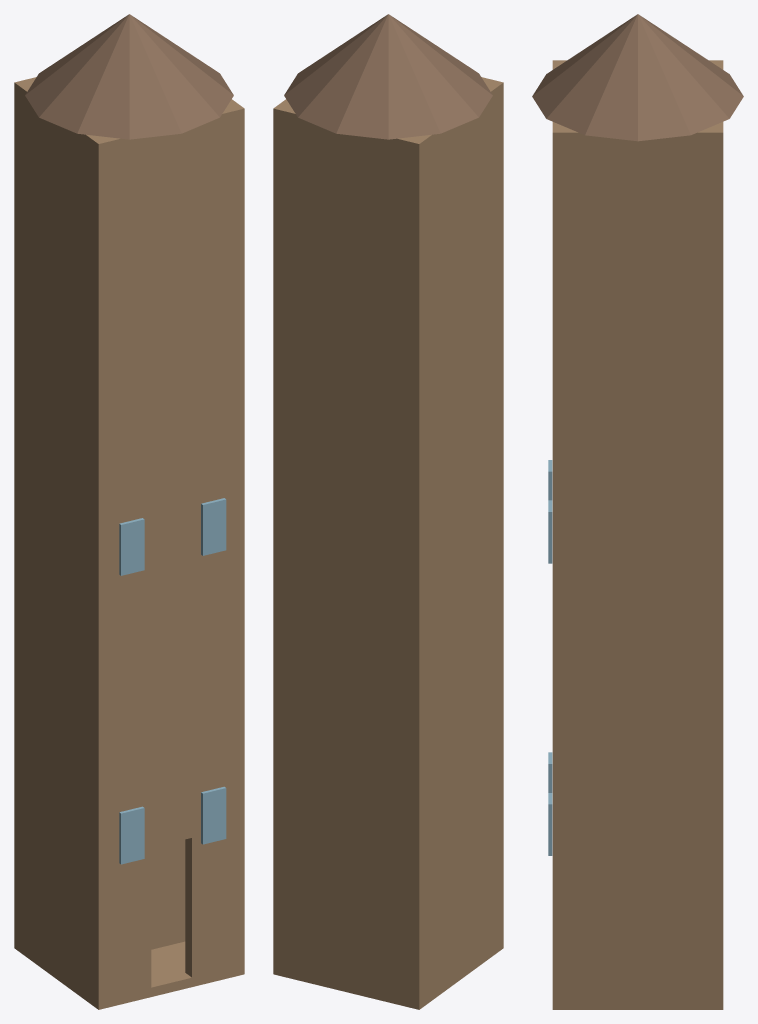
File: watchtower.glb
The picture shows the model from 3 angles, left to right: view 1: azimuth 30°, elevation 25°; view 2: azimuth 150°, elevation 25°; view 3: azimuth 270°, elevation 25°; orthographic projection.
Parts seen in each view (by area): view 1: building_0_1, building_0_5, building_0_4, building_0_6, building_0_14, building_0_2, building_0_8, building_0_0, building_0_7, building_0_11, building_0_12, building_0_13 (+1 smaller); view 2: building_0_3, building_0_1, building_0_14, building_0_2, building_0_7, building_0_0; view 3: building_0_2, building_0_14, building_0_8, building_0_0.
Boxes of the visible parts, x1,y1,x2,y2 form: building_0_1: (14,79,110,1009); building_0_5: (185,107,232,986); building_0_4: (105,137,151,1006); building_0_6: (151,129,191,847); building_0_14: (25,14,233,139); building_0_2: (227,99,244,976); building_0_8: (151,839,185,949); building_0_0: (14,939,244,1009); building_0_7: (53,124,59,976); building_0_11: (201,786,226,844); building_0_12: (119,518,144,575); building_0_13: (201,498,226,555); building_0_3: (285,107,412,1006); building_0_1: (407,79,503,1009); building_0_14: (284,14,492,139); building_0_2: (273,99,290,976); building_0_7: (458,124,464,976); building_0_0: (273,939,503,1009); building_0_2: (552,127,723,1009); building_0_14: (532,14,743,141); building_0_8: (631,141,644,1009); building_0_0: (552,1000,723,1009).
Bounding box in the file's own units: 2.79 × 13.95 × 2.79.
